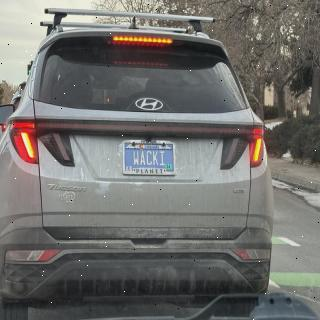license: (123, 140, 177, 177)
